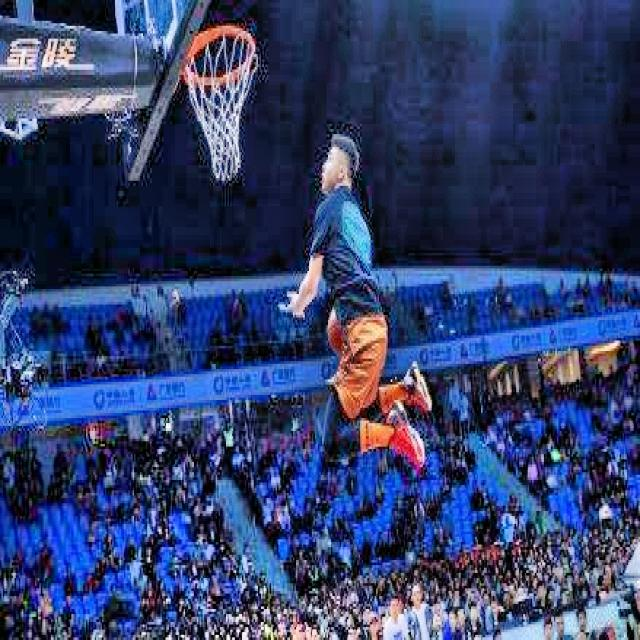rim: (189, 26, 257, 180)
